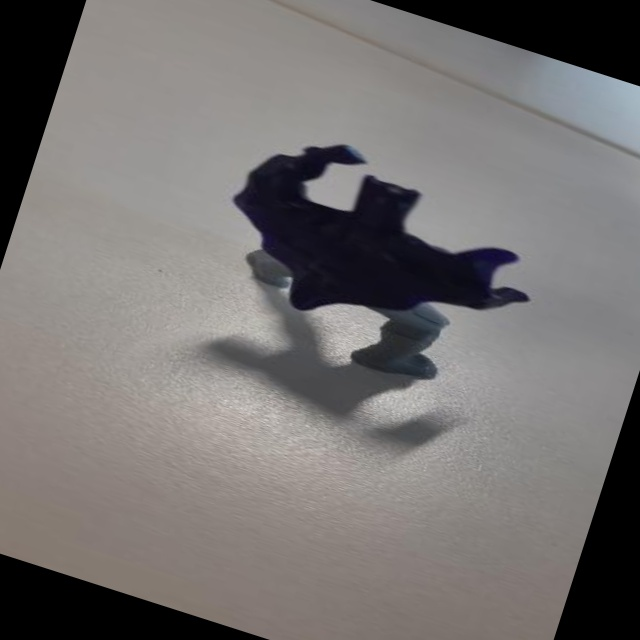Batman: (178, 110, 571, 412)
